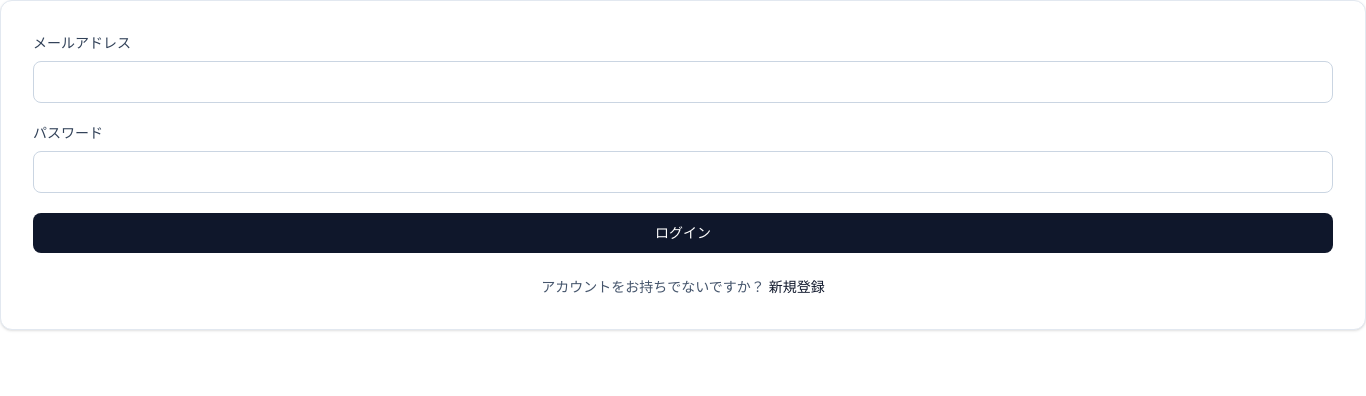
Test: LoginForm › 未入力で送信すると必須エラーを表示する
This screenshot has width=1366, height=396.
Click the button "ログイン". click: click(683, 233)
box: left=33, top=213, right=1333, bottom=253
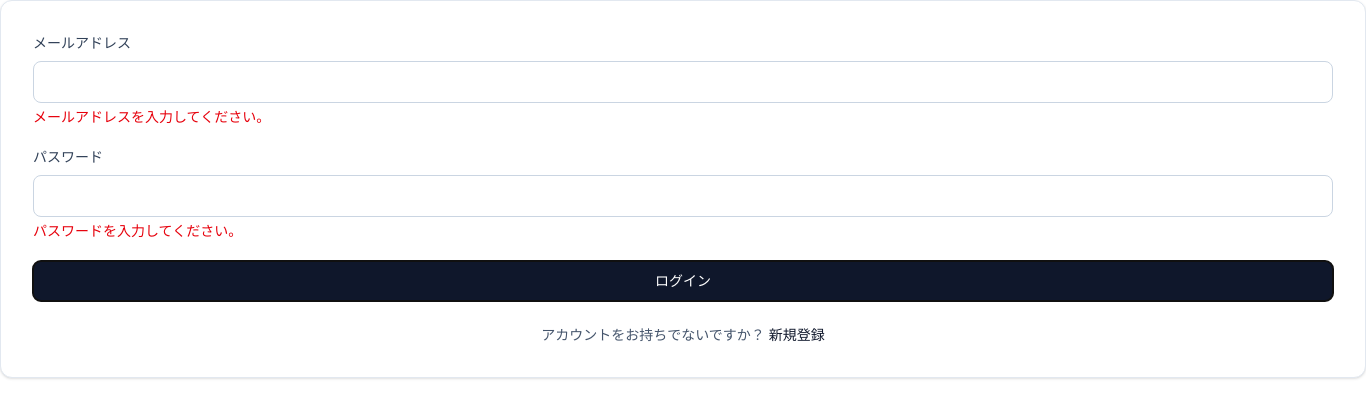
Now the text "メールアドレスを入力してください。" is shown, box left=33, top=109, right=270, bottom=125
Now the text "パスワードを入力してください。" is shown, box left=33, top=223, right=242, bottom=239
